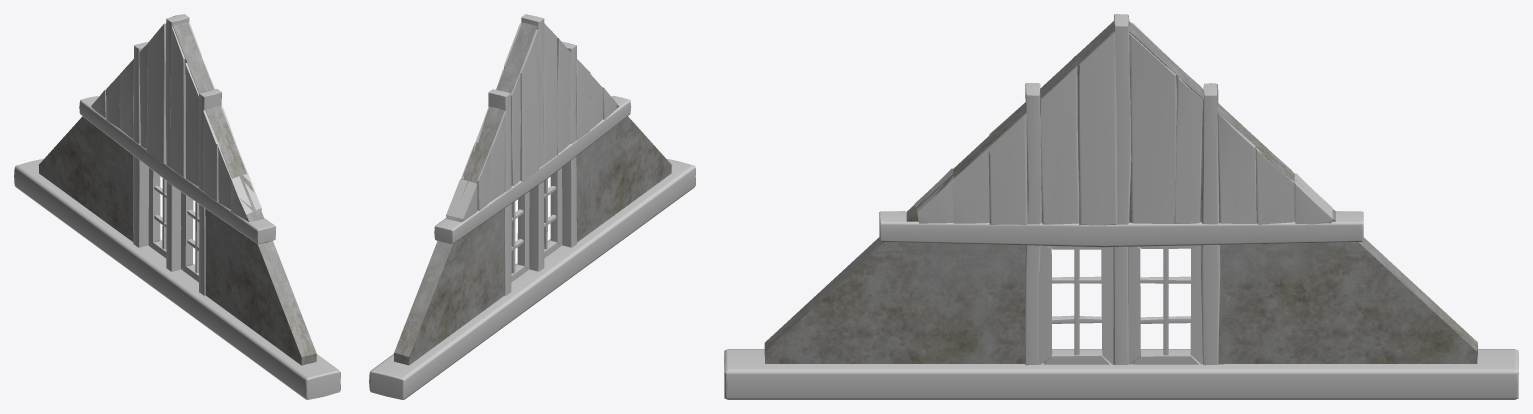
Rendered from SM_RoofEnd02.fbx.
3 views of the same model, side by side, from view 1: azimuth 30°, elevation 25°; view 2: azimuth 150°, elevation 25°; view 3: azimuth 270°, elevation 25° (orthographic). The views are drawn at different scales.
Visible parts, largest first — view 1: SM_RoofEnd02_LOD0; view 2: SM_RoofEnd02_LOD0; view 3: SM_RoofEnd02_LOD0.
Part boxes in pixels (<box>): SM_RoofEnd02_LOD0: <box>14,14,340,399</box>; SM_RoofEnd02_LOD0: <box>369,14,695,399</box>; SM_RoofEnd02_LOD0: <box>724,14,1518,399</box>.
Size of the model in its own units: 46.76 by 668 by 343.
